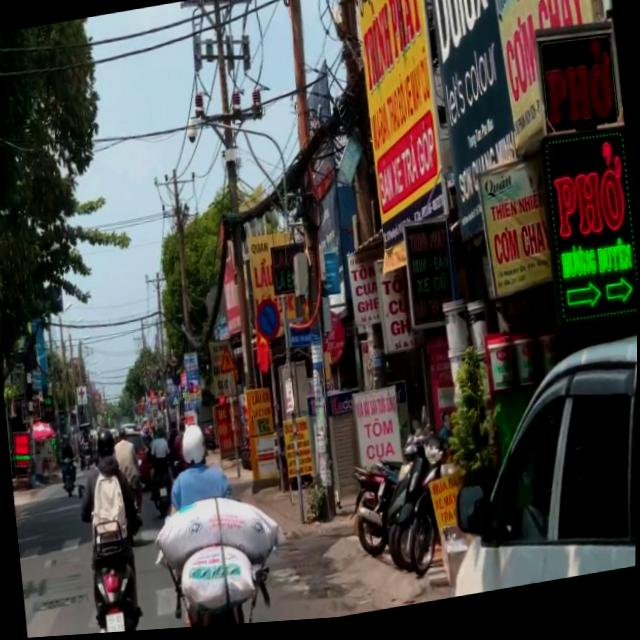Cam do xe: (254, 301, 282, 346)
Nguoi di bo cat ngang: (218, 345, 237, 376)
